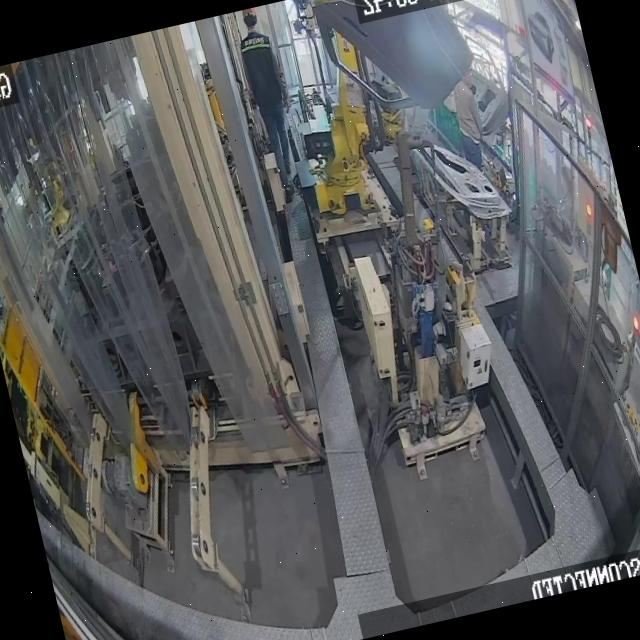Person: (230, 3, 313, 205), (440, 65, 511, 242)
